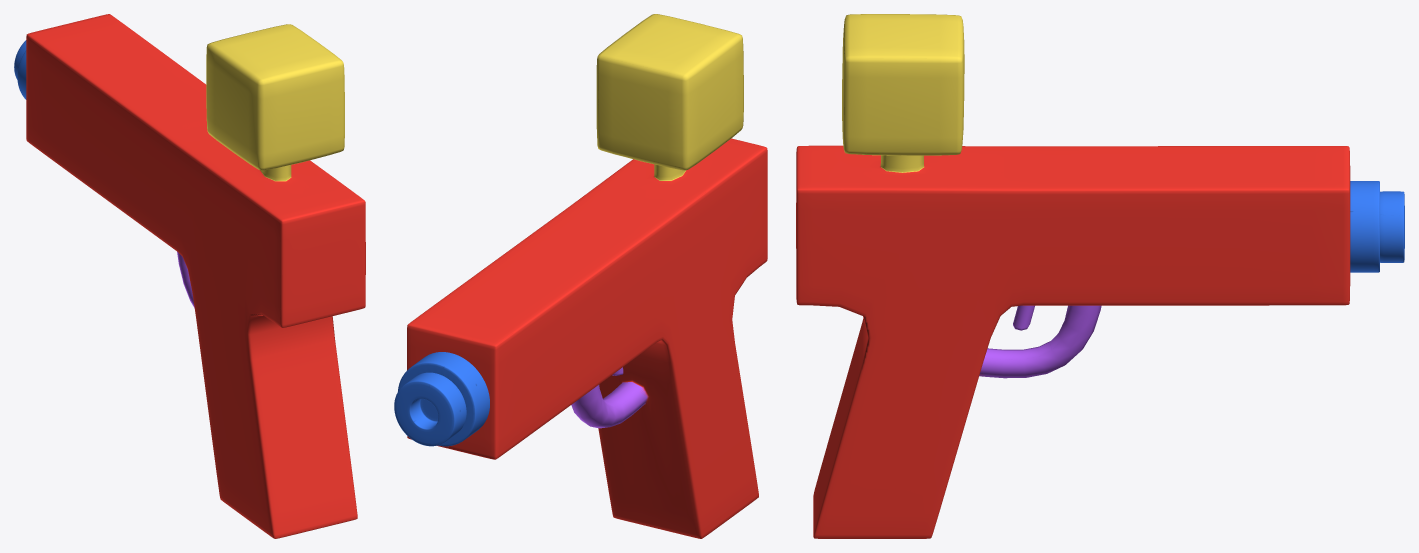
Rendered from Pistol.fbx.
3 views of the same model, side by side, from view 1: azimuth 30°, elevation 25°; view 2: azimuth 150°, elevation 25°; view 3: azimuth 270°, elevation 25° (orthographic). The views are drawn at different scales.
Parts seen in each view (by area): view 1: Cube; view 2: Cube; view 3: Cube.
Part boxes in pixels (x1,y1,x2,y2): Cube: (14,14,365,538); Cube: (394,14,767,538); Cube: (796,14,1404,538).
Bounding box in the file's own units: 474 × 2283 × 2599.
1 material, 1 textured.
